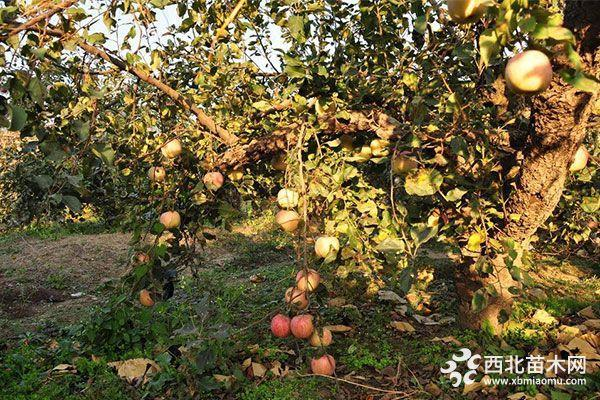apple: (503, 48, 552, 95), (276, 209, 300, 233), (291, 314, 315, 337), (295, 269, 319, 292), (315, 237, 339, 260), (311, 354, 334, 376), (273, 313, 292, 336), (312, 329, 333, 349), (204, 171, 224, 191), (279, 191, 302, 207), (159, 210, 181, 226)
